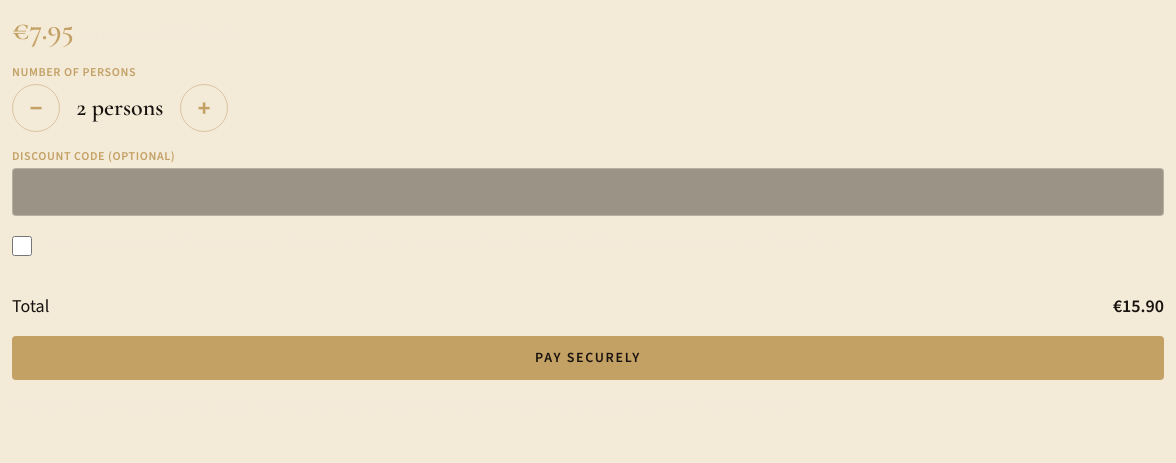
it: buy box › a refusal is shown in the buyer's language; unknown codes become the general message
Click the button "Pay securely". click: (588, 358)
box: [12, 336, 1164, 380]
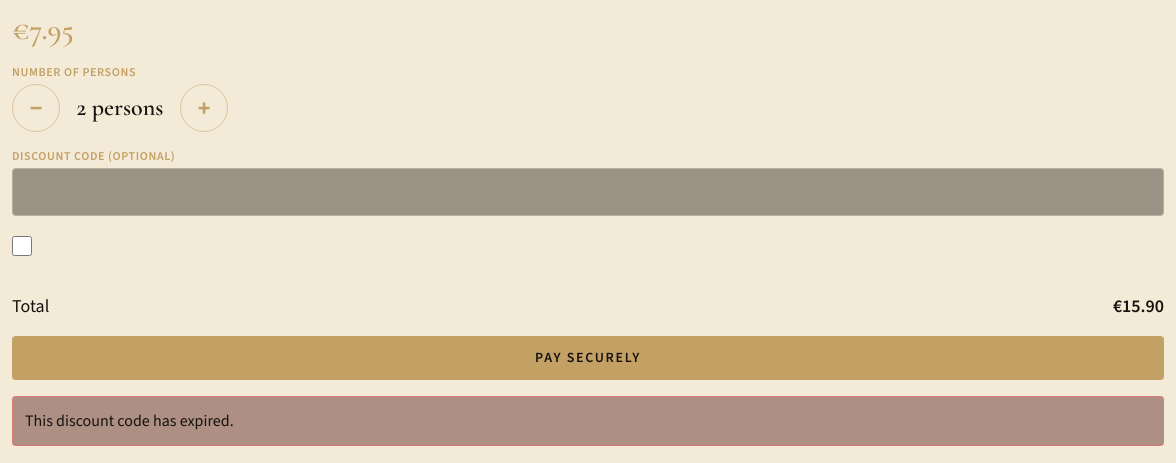
Now the text "This discount code has expired." is shown, box [12, 396, 1164, 446]
Click the button "Pay securely". click: (588, 358)
box: [12, 336, 1164, 380]
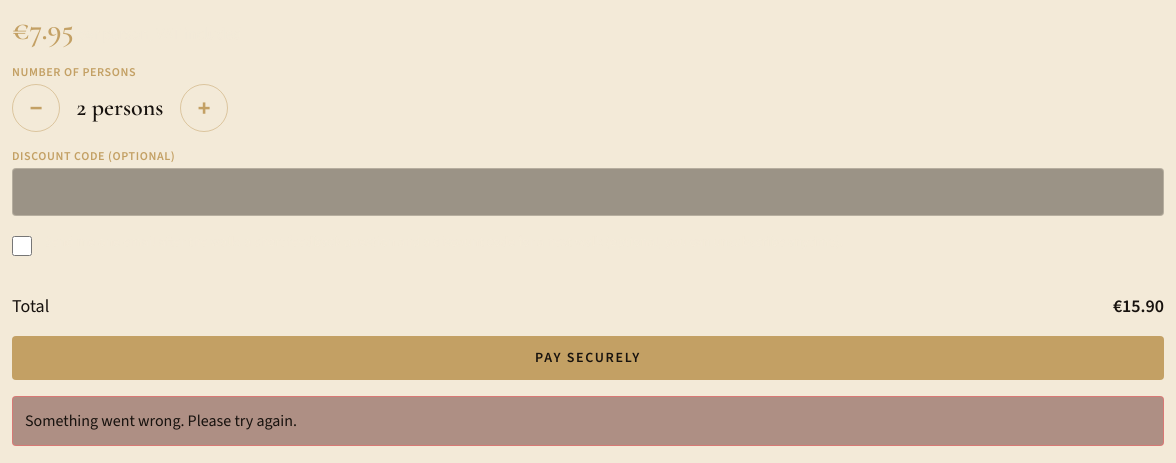
Now the text "Something went wrong. Please try again." is shown, box [12, 396, 1164, 446]
